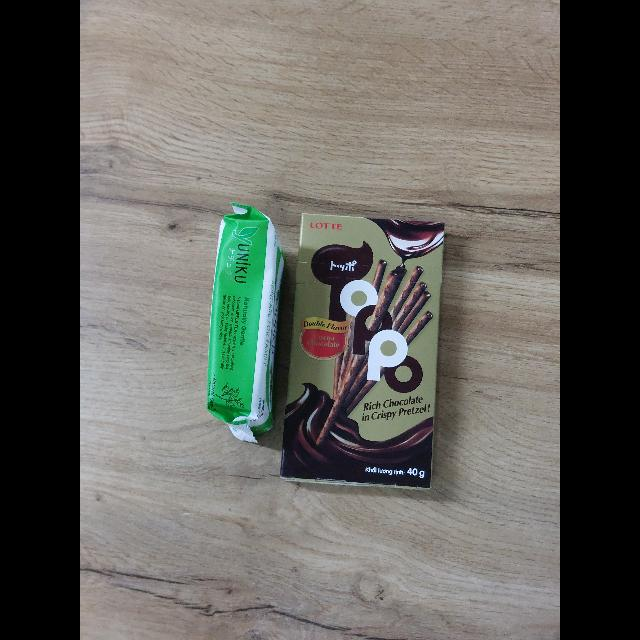banh_toppo_socola: (279, 211, 442, 488)
khan_giay: (206, 203, 283, 442)
